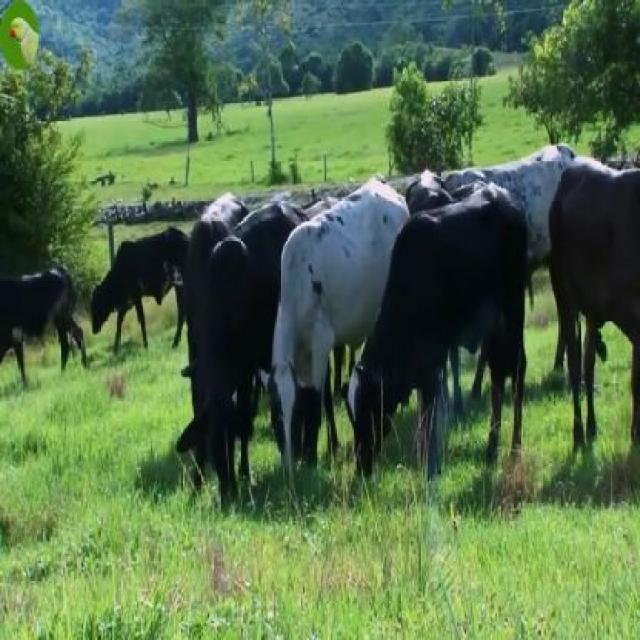Cow: (345, 175, 526, 500)
